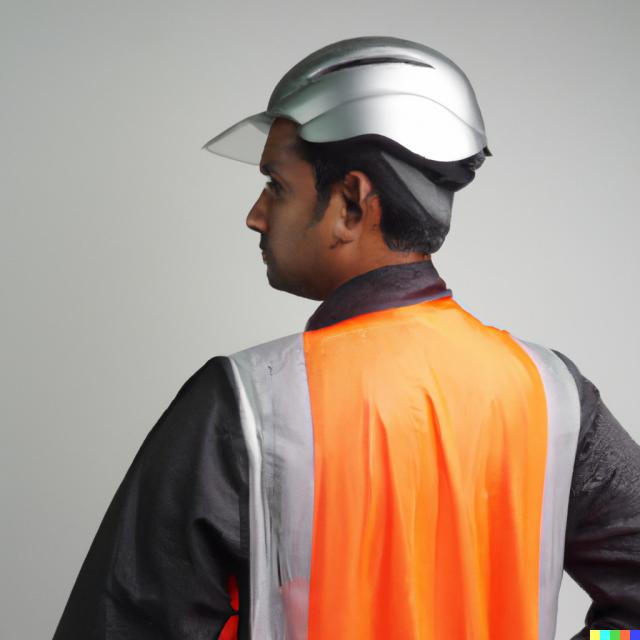Reflective-Jacket: (153, 282, 597, 640)
Safety-Helmet: (202, 38, 502, 192)
